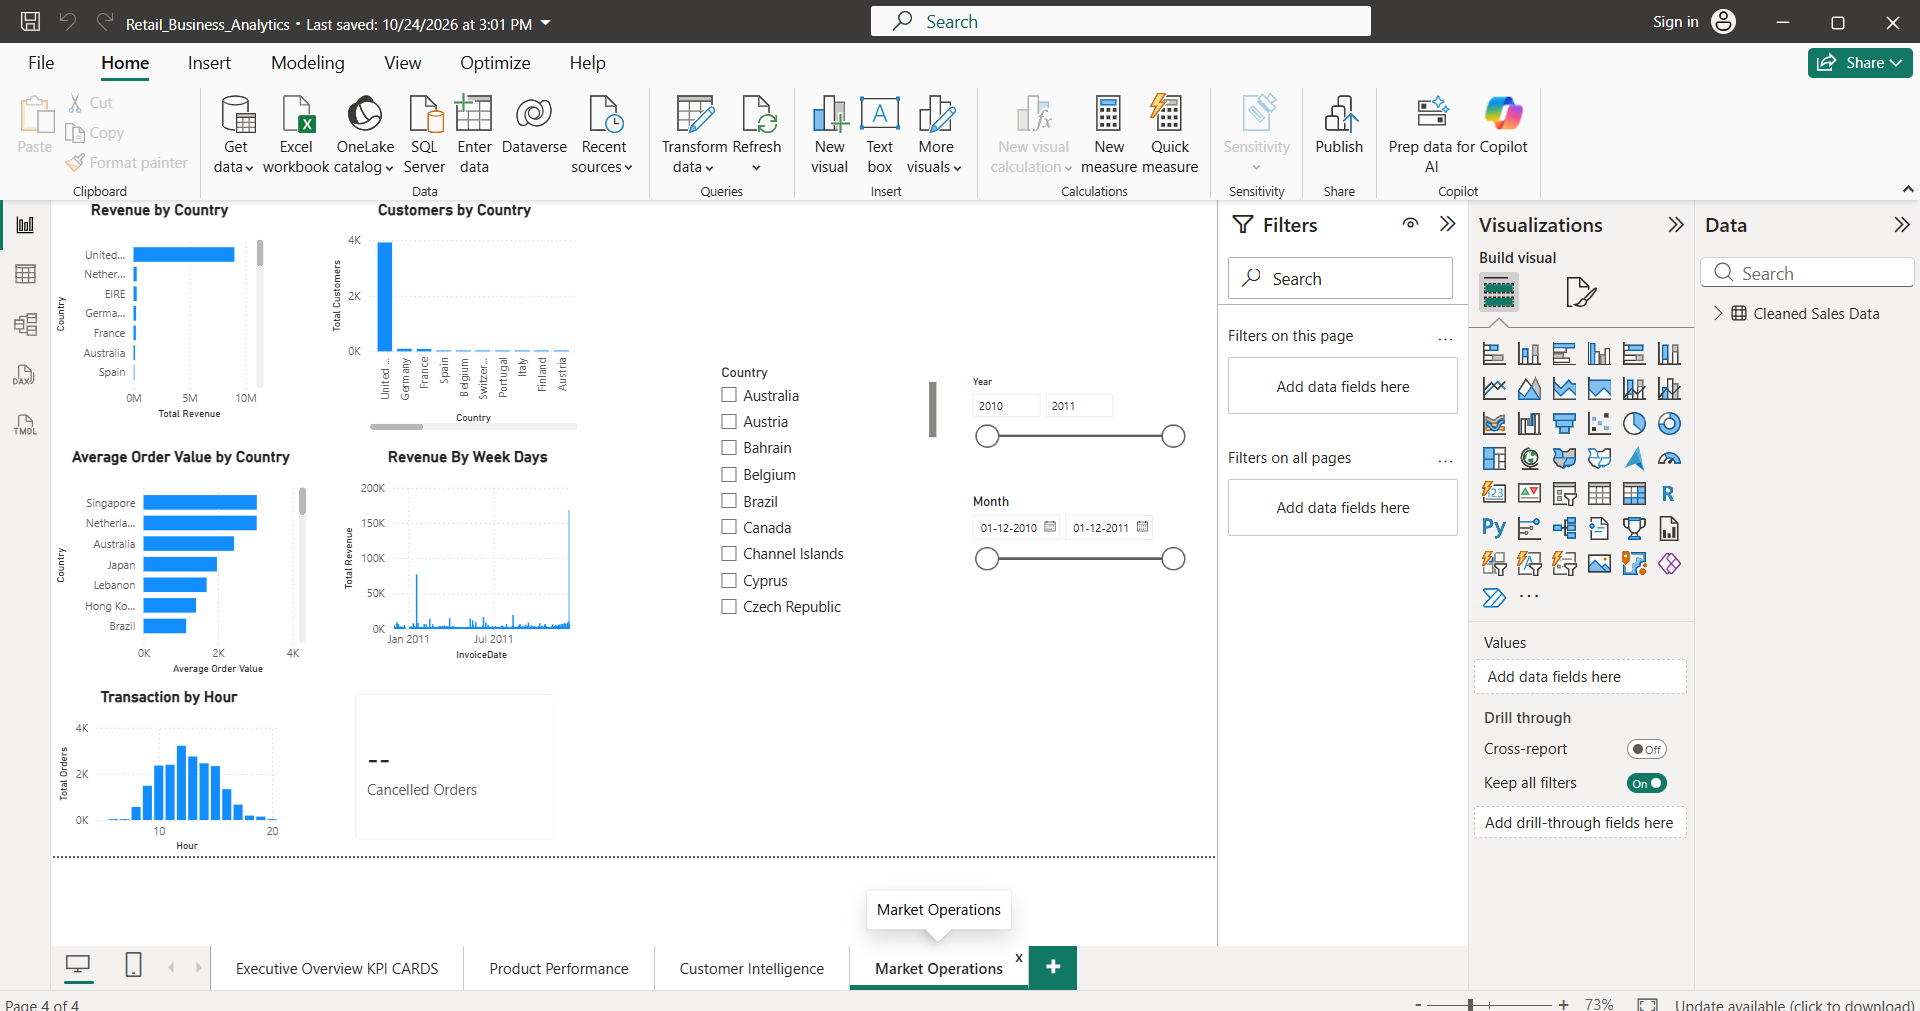

What the dashboard file says about the page in this screenshot:
{"tool":"powerbi","page":{"name":"Market Operations","canvas":[1280,720],"ordinal":3},"visuals":[{"type":"clusteredBarChart","title":"Revenue by Country","fields":{"Category":["Cleaned Sales Data.Country"],"Y":["Cleaned Sales Data.Total Revenue"]},"box":[0,0,238.8,245.6],"z":0},{"type":"columnChart","title":"Customers by Country","fields":{"Category":["Cleaned Sales Data.Country"],"Y":["Cleaned Sales Data.Total Customers"]},"box":[303.3,0,279.9,258],"z":1000},{"type":"clusteredBarChart","fields":{"Category":["Cleaned Sales Data.Country"],"Y":["Cleaned Sales Data.Average Order Value"]},"box":[0,271.7,285.4,253.9],"z":2000},{"type":"clusteredColumnChart","title":"Revenue By Week Days","fields":{"Category":["Cleaned Sales Data.InvoiceDate"],"Y":["Cleaned Sales Data.Total Revenue"]},"box":[317,271.7,281.3,238.8],"z":3000},{"type":"clusteredColumnChart","title":"Transaction by Hour","fields":{"Category":["Cleaned Sales Data.Hour"],"Y":["Cleaned Sales Data.Total Orders"]},"box":[4.1,535.2,251.1,185.2],"z":4000},{"type":"cardVisual","fields":{"Data":["Cleaned Sales Data.Cancelled Orders"]},"box":[317,525.6,253.9,194.9],"z":5000},{"type":"slicer","fields":{"Values":["Cleaned Sales Data.Country"]},"box":[723.2,175.6,253.9,288.2],"z":6000},{"type":"slicer","fields":{"Values":["Cleaned Sales Data.Year"]},"box":[999,188,253.9,131.7],"z":7000},{"type":"slicer","fields":{"Values":["Cleaned Sales Data.Month"]},"box":[999,317,254,194],"z":8000}]}

Visuals, with their boxes on the page's 1280x720 design canvas (x1, y1, x2, y2). These are canvas units, not pixel positions in the 1920x1011 screenshot, which may show the page scaled, cropped or inside an application window:
"Revenue by Country" clusteredBarChart: <box>0,0,239,246</box>
"Customers by Country" columnChart: <box>303,0,583,258</box>
clusteredBarChart - Cleaned Sales Data.Country x Cleaned Sales Data.Average Order Value: <box>0,272,285,526</box>
"Revenue By Week Days" clusteredColumnChart: <box>317,272,598,510</box>
"Transaction by Hour" clusteredColumnChart: <box>4,535,255,720</box>
cardVisual - Cleaned Sales Data.Cancelled Orders: <box>317,526,571,720</box>
slicer - Cleaned Sales Data.Country: <box>723,176,977,464</box>
slicer - Cleaned Sales Data.Year: <box>999,188,1253,320</box>
slicer - Cleaned Sales Data.Month: <box>999,317,1253,511</box>
